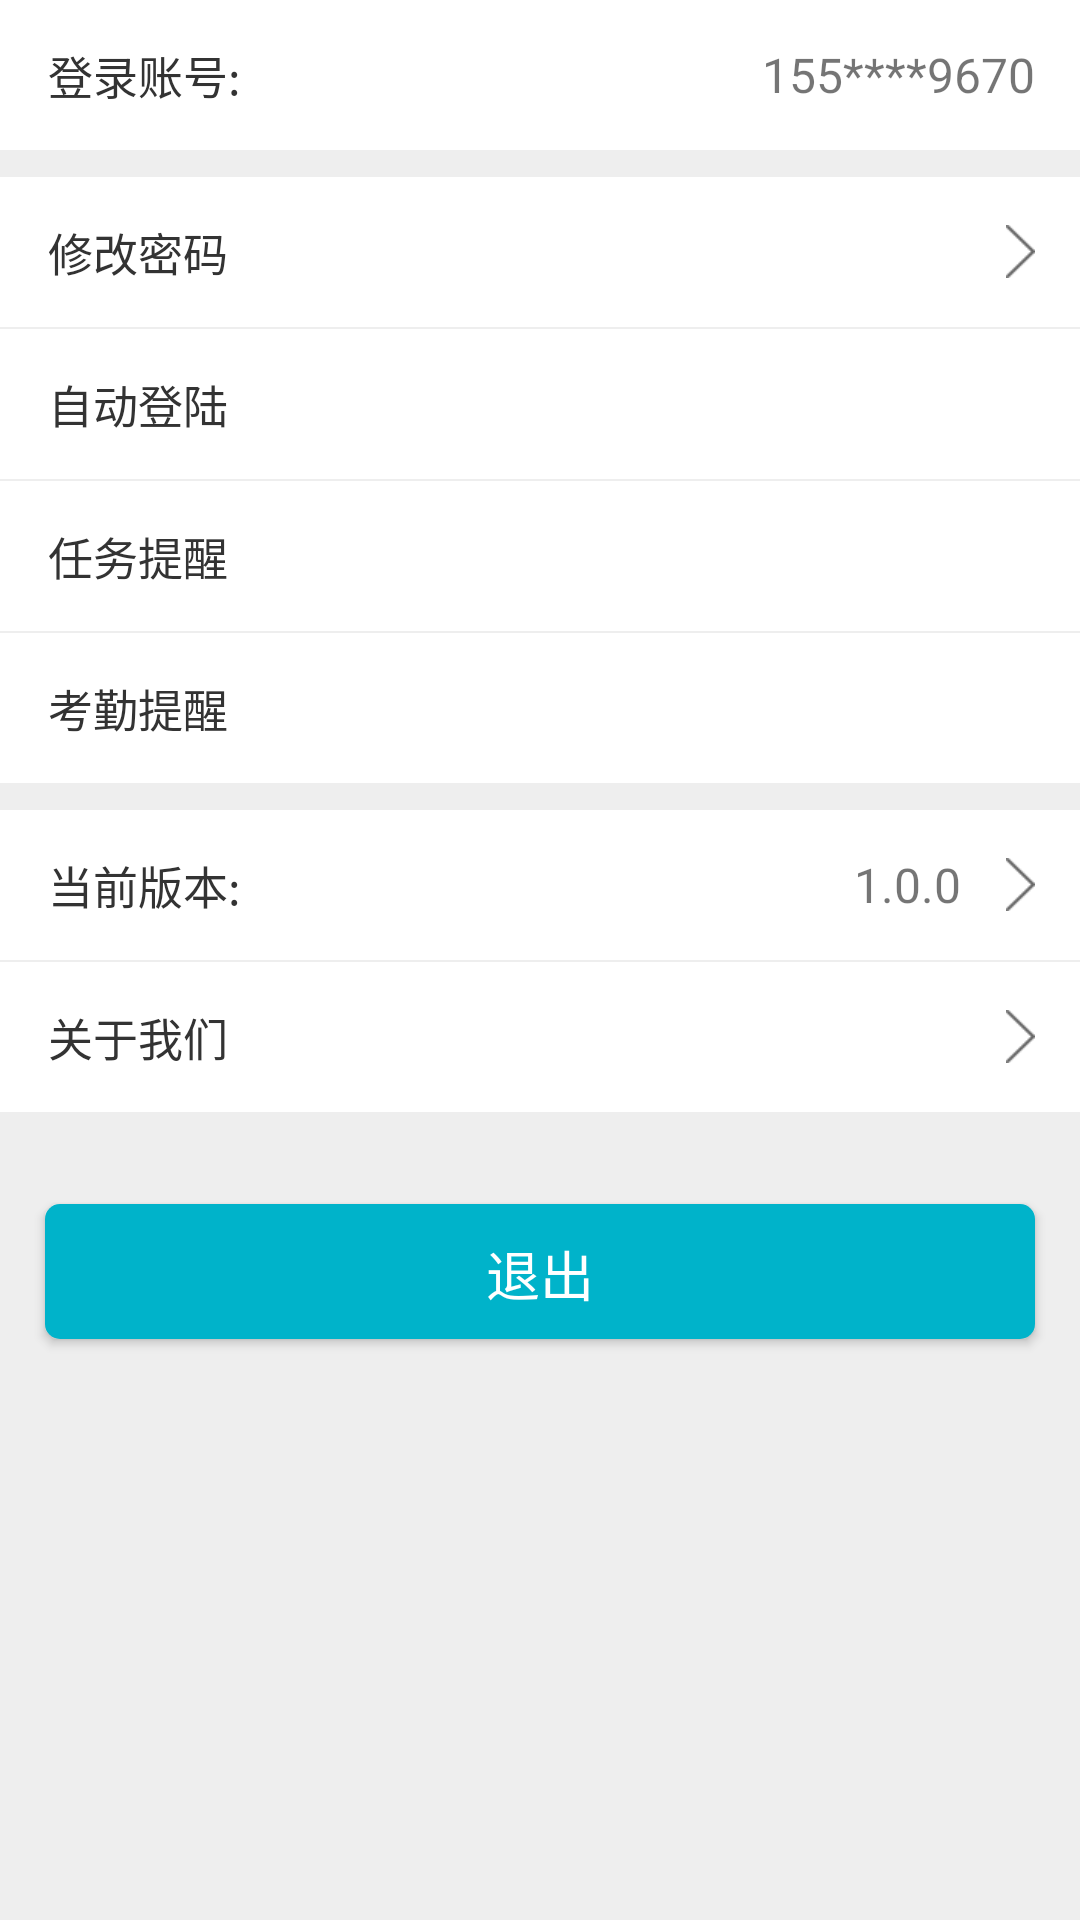

Screen size 1080px×1920px. Icon name, then its box in pixels as (x1, y1, x2, y2):
jump right: (1006, 225, 1035, 278), (1006, 858, 1035, 911), (1006, 1010, 1035, 1063)
